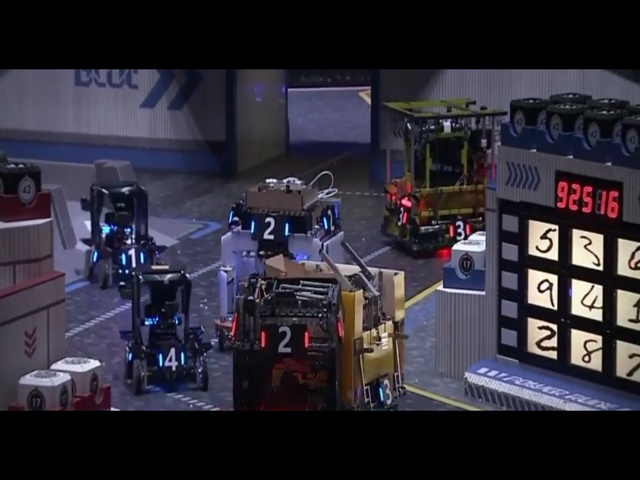bluePlate: (249, 213, 292, 243), (155, 344, 189, 374), (117, 245, 146, 271), (377, 375, 396, 407), (321, 203, 338, 237)
redPlate: (259, 322, 311, 357), (447, 218, 472, 242), (395, 200, 409, 230)
